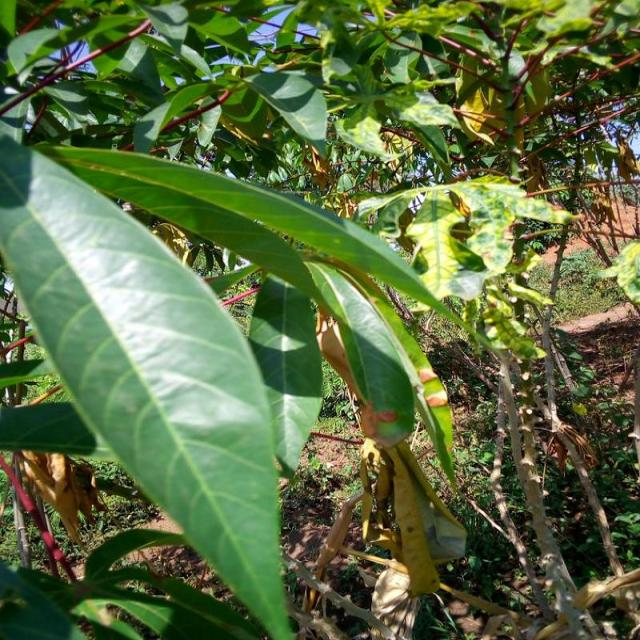cassava leaf: (0, 117, 293, 638)
